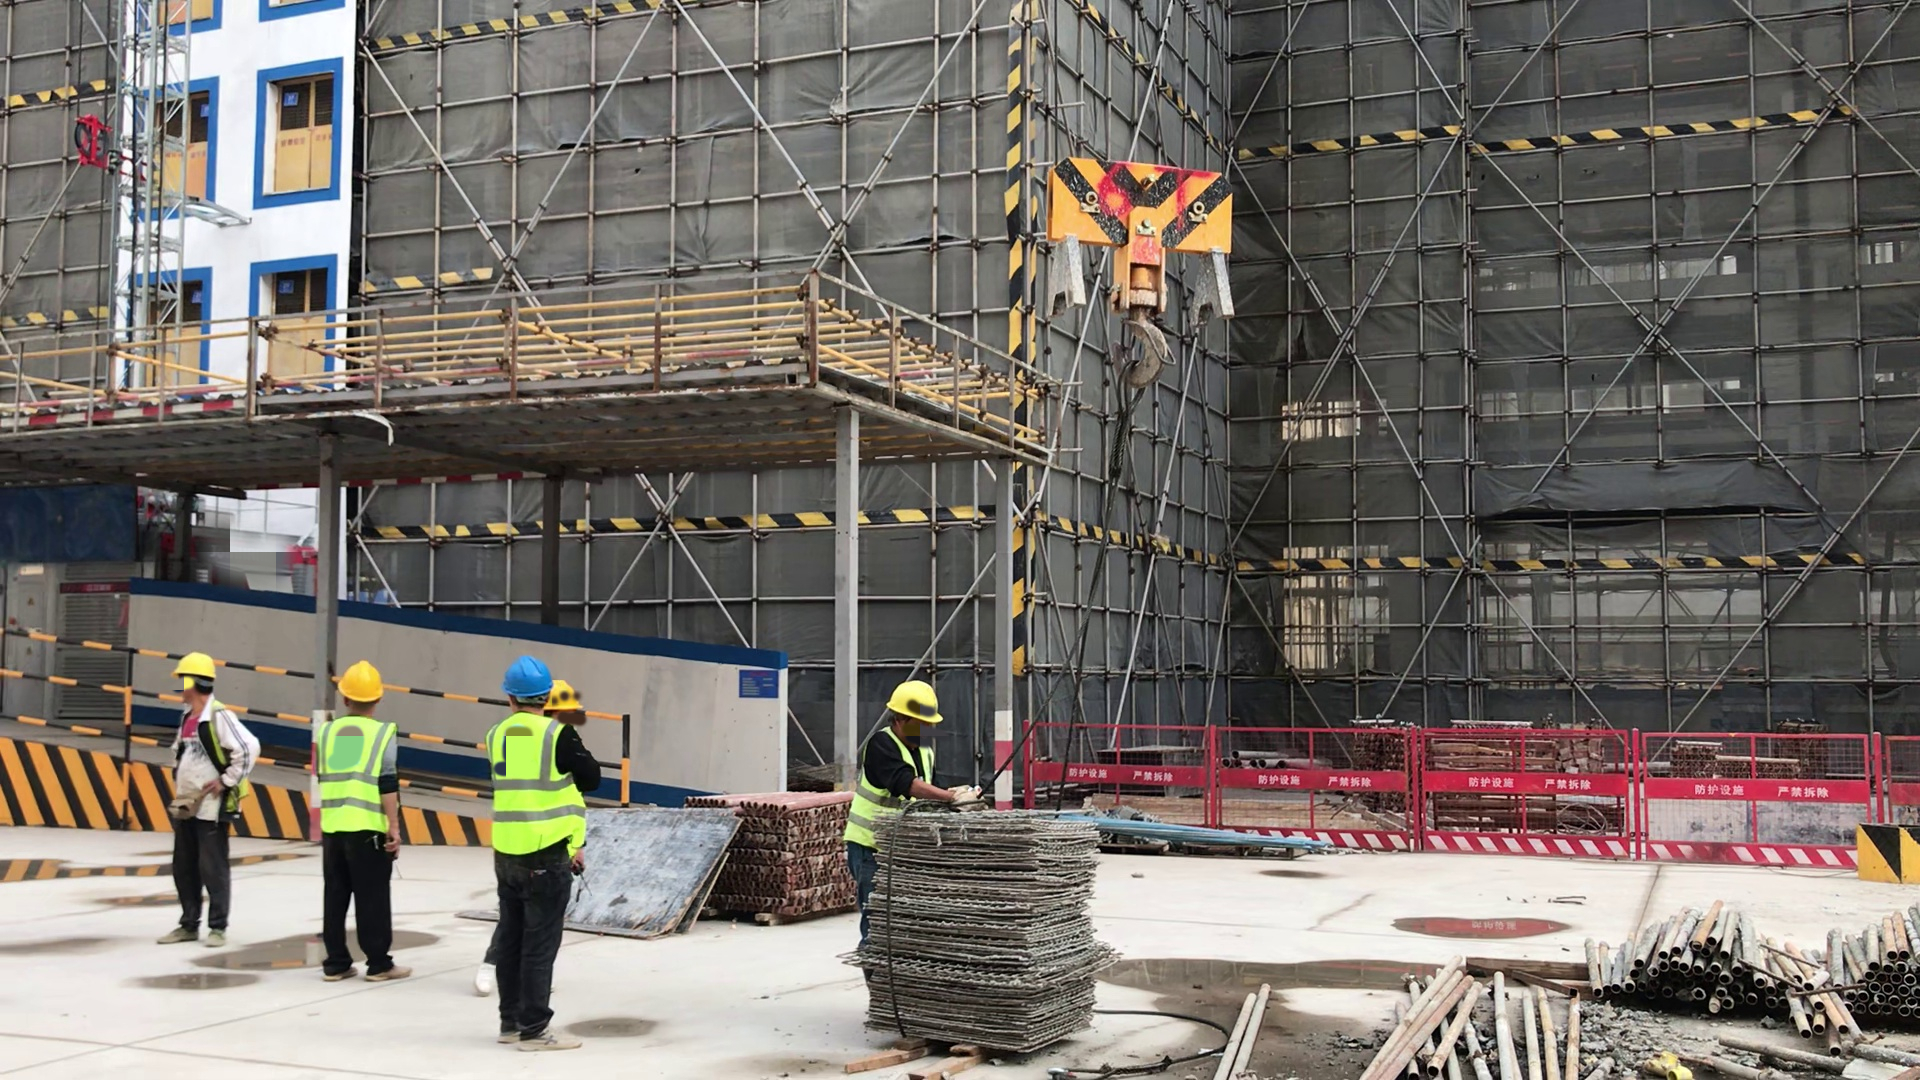fence: (1025, 695, 1920, 876)
helmet: (880, 677, 950, 728), (489, 654, 554, 709), (324, 655, 385, 708), (161, 644, 230, 689)
hook: (1039, 156, 1249, 343)
person: (480, 654, 575, 1055), (132, 634, 251, 949), (302, 660, 403, 973), (845, 668, 945, 889)
scaffold: (1599, 880, 1920, 999), (687, 778, 839, 924)
vest: (478, 720, 590, 856), (846, 736, 943, 869), (305, 715, 393, 841)
